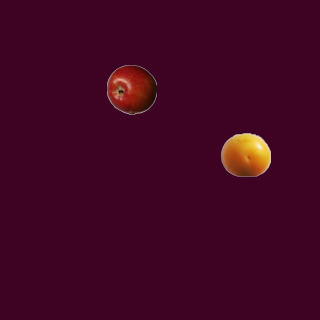Apple Braeburn: (106, 64, 156, 114)
Cherry Wax Yellow: (220, 129, 270, 179)
